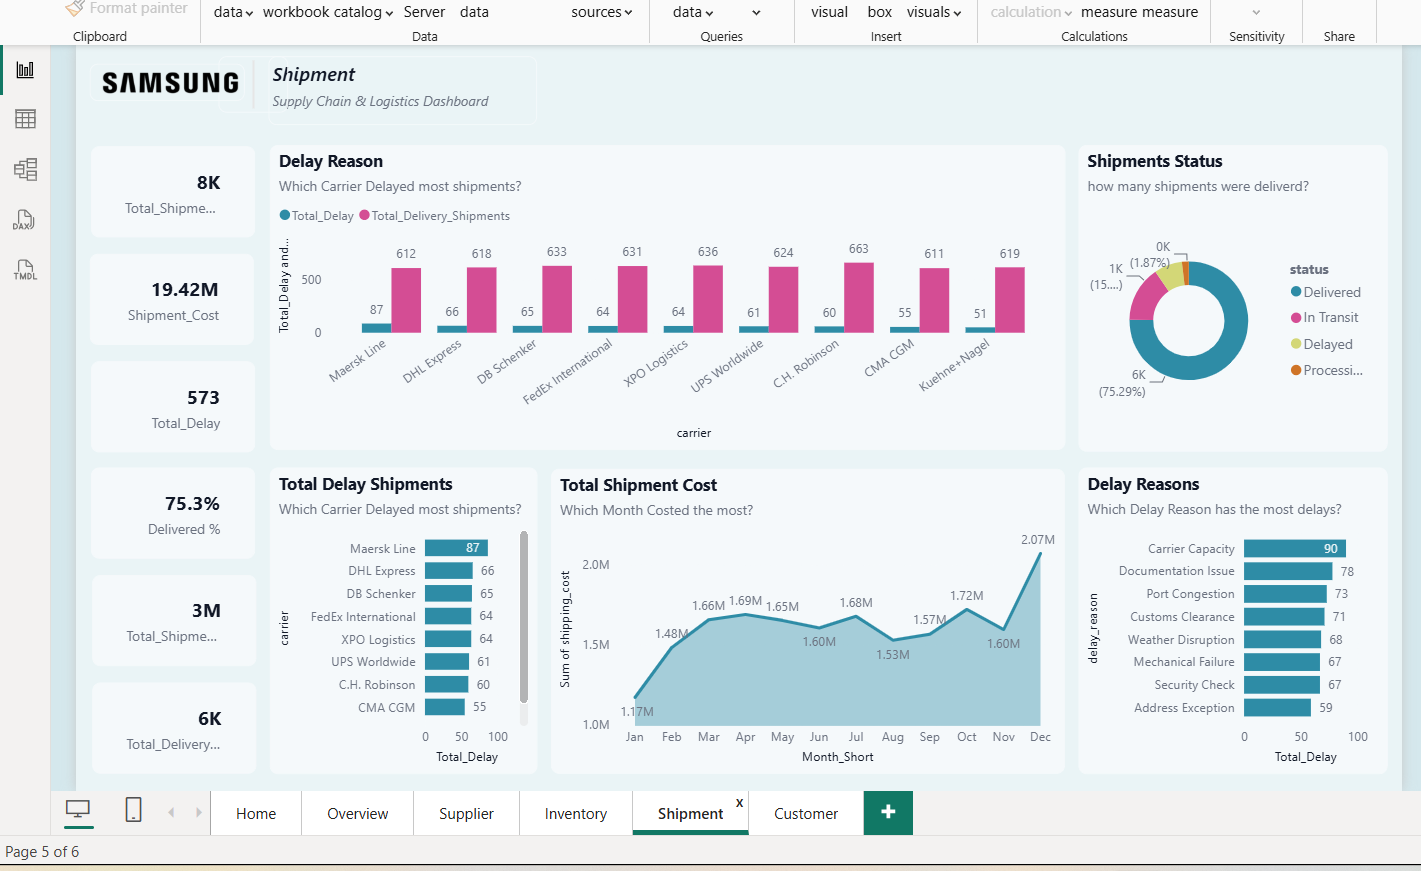

What the dashboard file says about the page in this screenshot:
{"tool":"powerbi","page":{"name":"Shipment","canvas":[1280,720],"ordinal":4},"visuals":[{"type":"shape","title":"Shipment","box":[185.8,10.9,259.4,66.4],"z":0},{"type":"shape","box":[137.5,10.9,67.6,54.3],"z":1000},{"type":"image","box":[13.3,18.1,149.6,36.2],"z":2000},{"type":"cardVisual","fields":{"Data":["MeasureTable.Shipment_Cost"]},"box":[13.3,201.2,158,88.1],"z":3000},{"type":"cardVisual","fields":{"Data":["MeasureTable.Total_Delay"]},"box":[14,304.7,158,88.1],"z":4000},{"type":"cardVisual","fields":{"Data":["MeasureTable.Total_Shipment_Quantity"]},"box":[15.4,511.8,158,88.1],"z":5000},{"type":"cardVisual","fields":{"Data":["MeasureTable.Total_Delivery_Shipments"]},"box":[16.2,615.3,158,88.1],"z":6000},{"type":"cardVisual","fields":{"Data":["MeasureTable.Delivered %"]},"box":[14.7,408.3,158,88.1],"z":7000},{"type":"cardVisual","fields":{"Data":["MeasureTable.Total_Shipments"]},"box":[14.5,97.7,158,88.1],"z":8000},{"type":"clusteredBarChart","title":"Total Delay Shipments","fields":{"Category":["fact_shipment.carrier"],"Y":["MeasureTable.Total_Delay"]},"box":[186.4,407.7,258.5,295.8],"z":9000},{"type":"clusteredColumnChart","title":"Delay Reason","fields":{"Y":["MeasureTable.Total_Delay","MeasureTable.Total_Delivery_Shipments"],"Category":["fact_shipment.carrier"]},"box":[186.4,97,768.2,294.6],"z":10000},{"type":"areaChart","title":"Total Shipment Cost","fields":{"Category":["dim_date.Month_Short"],"Y":["Sum(fact_shipment.shipping_cost)"]},"box":[458.7,408.9,495.9,294.6],"z":11000},{"type":"clusteredBarChart","title":"Delay Reasons","fields":{"Category":["fact_shipment.delay_reason"],"Y":["MeasureTable.Total_Delay"]},"box":[967,407.7,298.3,295.8],"z":12000},{"type":"donutChart","title":"Shipments Status","fields":{"Category":["fact_shipment.status"],"Y":["MeasureTable.Total_Shipments"]},"box":[967,97,298.3,295.8],"z":13000}]}

Visuals, with their boxes on the page's 1280x720 design canvas (x1, y1, x2, y2). These are canvas units, not pixel positions in the 1421x871 screenshot, which may show the page scaled, cropped or inside an application window:
"Shipment" shape: left=186, top=11, right=445, bottom=77
shape: left=138, top=11, right=205, bottom=65
image: left=13, top=18, right=163, bottom=54
cardVisual - MeasureTable.Shipment_Cost: left=13, top=201, right=171, bottom=289
cardVisual - MeasureTable.Total_Delay: left=14, top=305, right=172, bottom=393
cardVisual - MeasureTable.Total_Shipment_Quantity: left=15, top=512, right=173, bottom=600
cardVisual - MeasureTable.Total_Delivery_Shipments: left=16, top=615, right=174, bottom=703
cardVisual - MeasureTable.Delivered %: left=15, top=408, right=173, bottom=496
cardVisual - MeasureTable.Total_Shipments: left=14, top=98, right=172, bottom=186
"Total Delay Shipments" clusteredBarChart: left=186, top=408, right=445, bottom=704
"Delay Reason" clusteredColumnChart: left=186, top=97, right=955, bottom=392
"Total Shipment Cost" areaChart: left=459, top=409, right=955, bottom=704
"Delay Reasons" clusteredBarChart: left=967, top=408, right=1265, bottom=704
"Shipments Status" donutChart: left=967, top=97, right=1265, bottom=393
